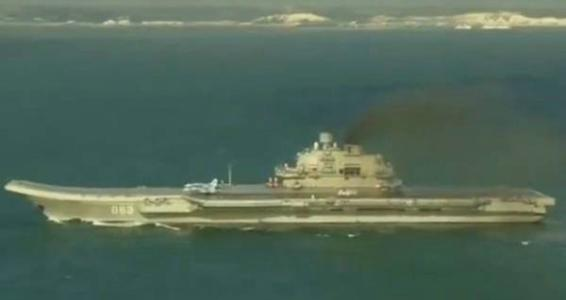smoke: (343, 70, 558, 147)
